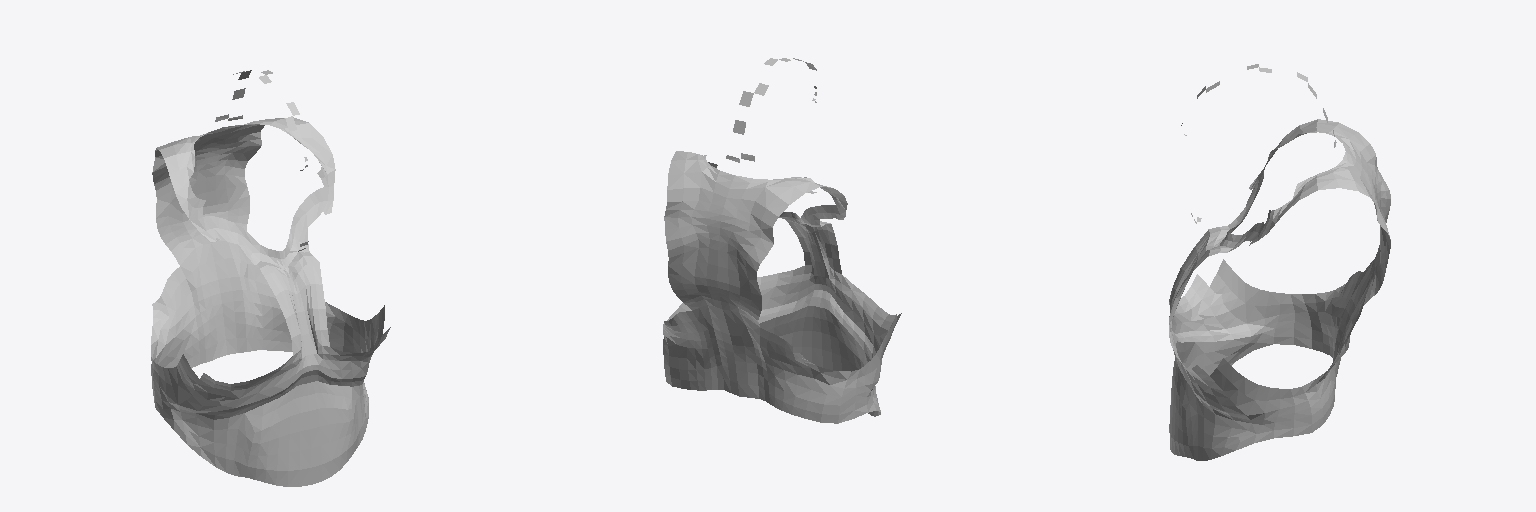
Rendered from SLE_Gnom2.obj.
3 renders of one model, left to right at view 1: azimuth 30°, elevation 25°; view 2: azimuth 150°, elevation 25°; view 3: azimuth 270°, elevation 25°, orthographic.
Size of the model in its own units: 0.2184 by 0.3909 by 0.2091.